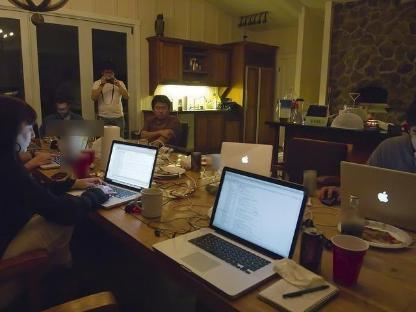Plastic Cup: (330, 234, 370, 286)
